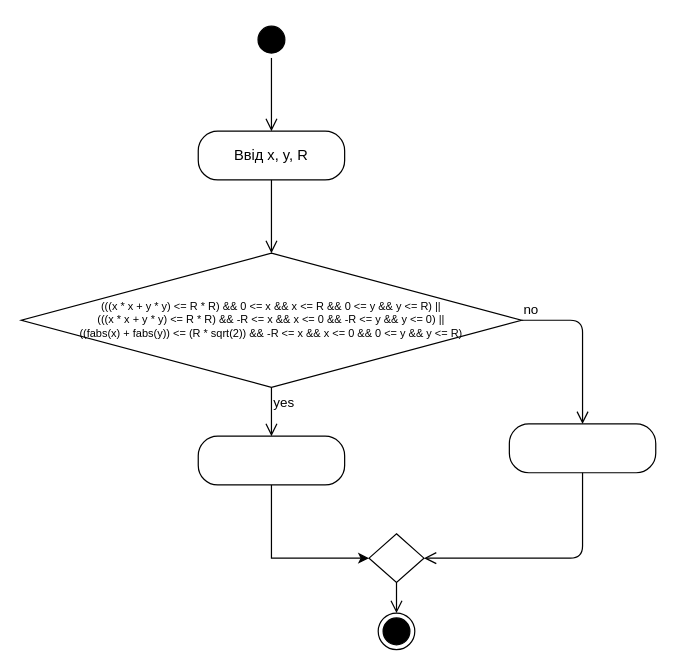
This 677x671 diagram has some shape labels left out. The shapes that lost their labels are listed below. From the top down, each one's centre as x and y in pixels, then its label:
point (271, 460): вивід "yes"
point (582, 448): вивід "no"
